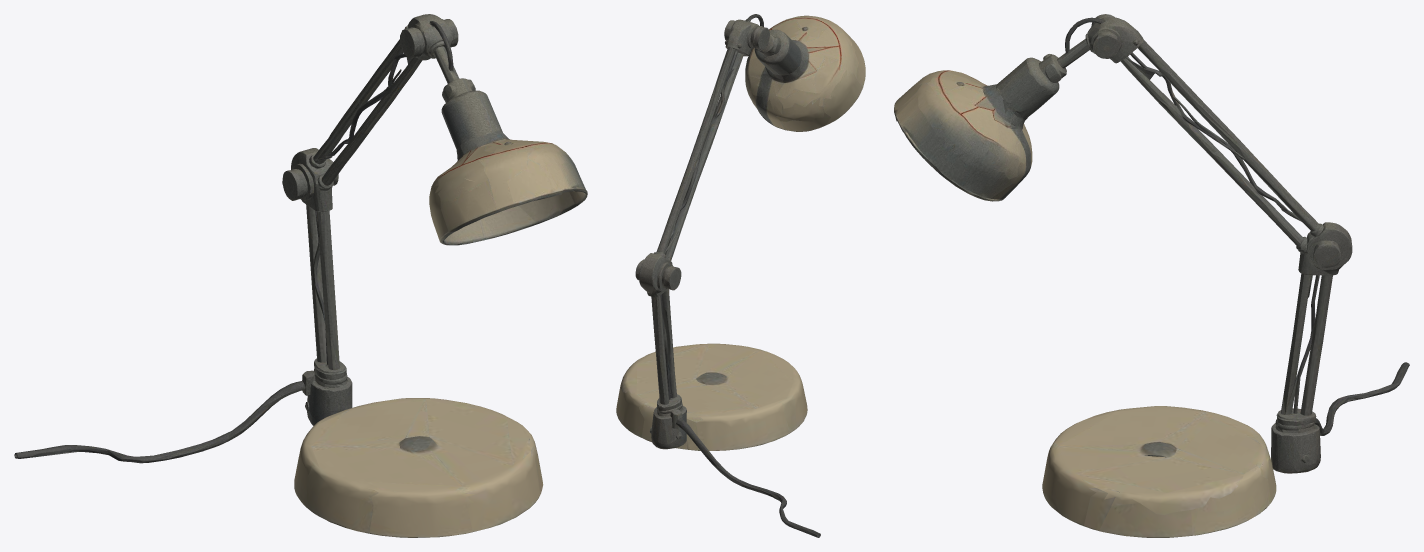
File: lampada_tavolo_A.glb
3 views of the same model, side by side, from view 1: azimuth 30°, elevation 25°; view 2: azimuth 150°, elevation 25°; view 3: azimuth 270°, elevation 25° (orthographic). The views are drawn at different scales.
Parts seen in each view (by area): view 1: Mesh_0; view 2: Mesh_0; view 3: Mesh_0.
Part boxes in pixels (x1,y1,x2,y2): Mesh_0: (14, 14, 587, 537); Mesh_0: (616, 14, 865, 537); Mesh_0: (894, 14, 1409, 537).
Bounding box in the file's own units: 0.3607 × 0.45 × 0.4517.
1 material, 1 textured.
